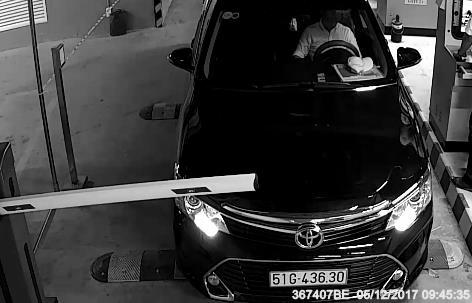License-plate: (260, 260, 361, 290)
